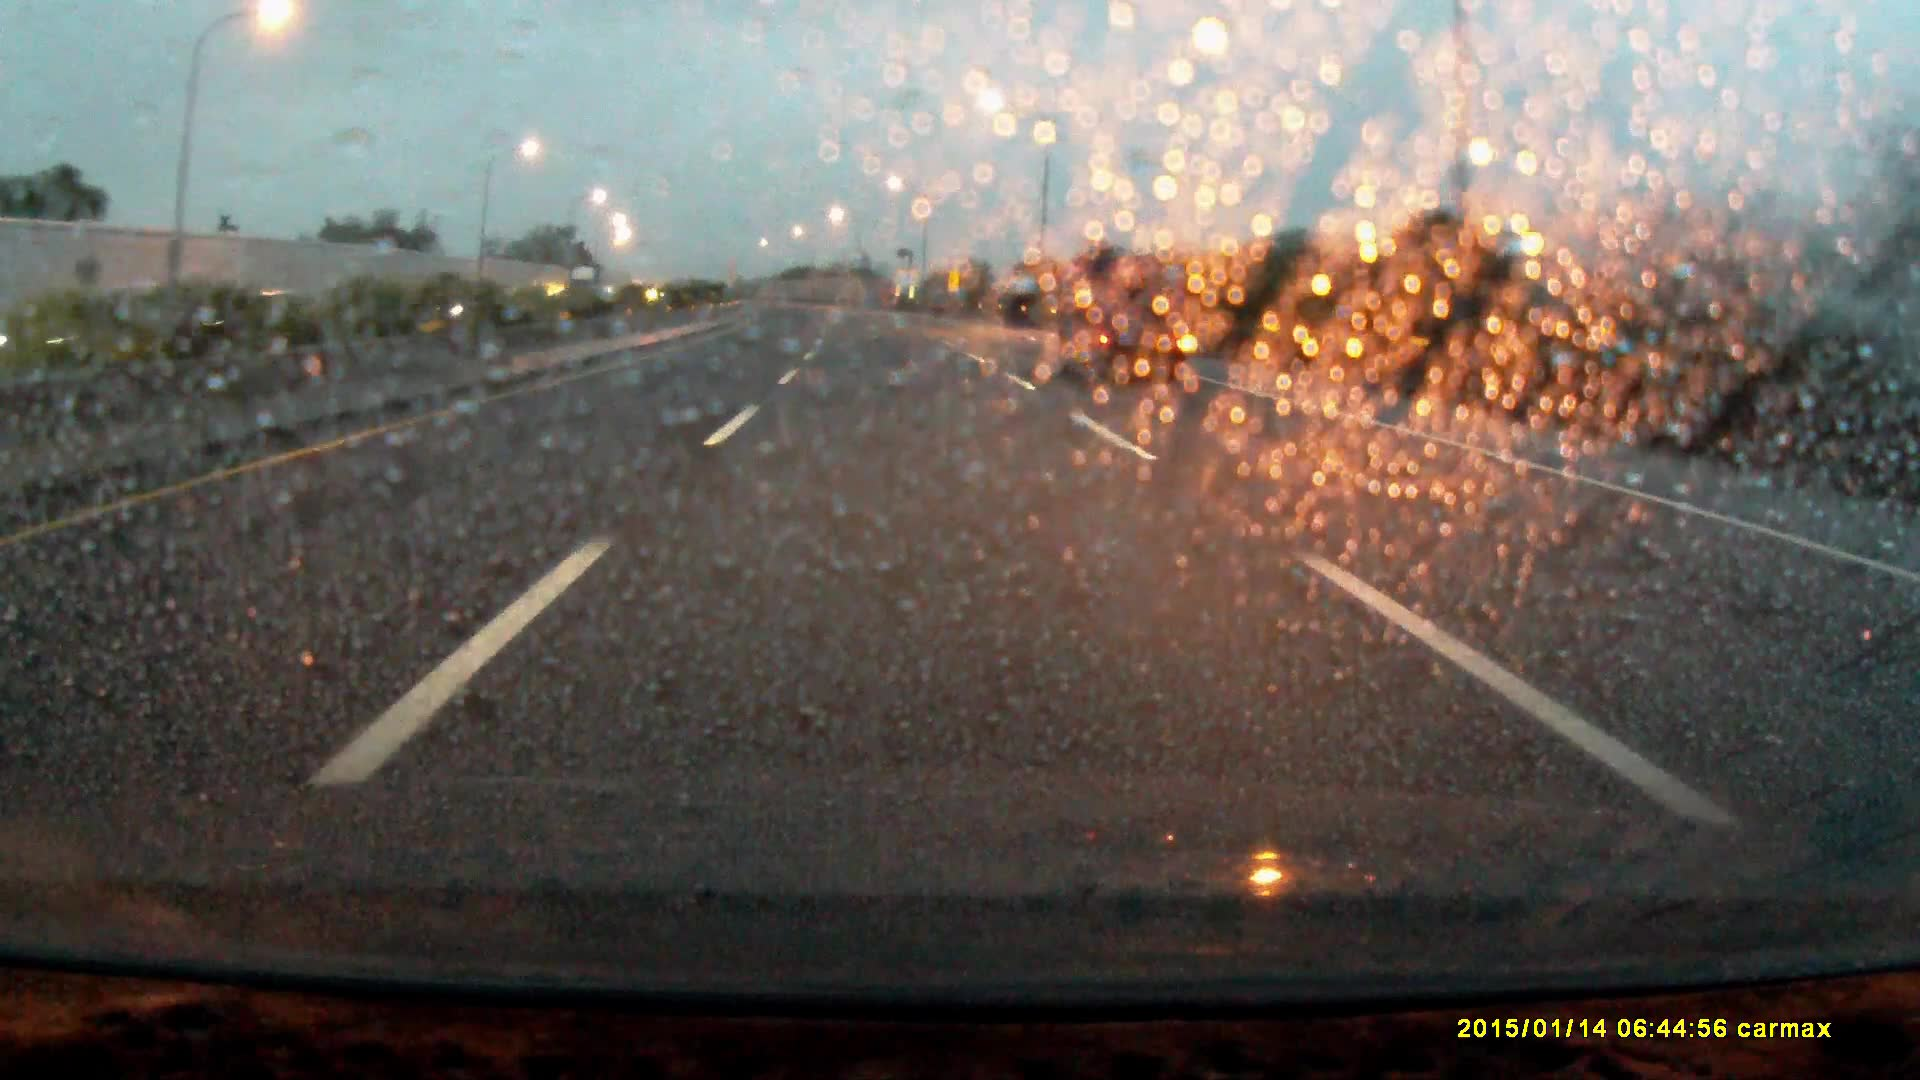vehicle: (1054, 256, 1193, 393), (568, 262, 605, 310)
